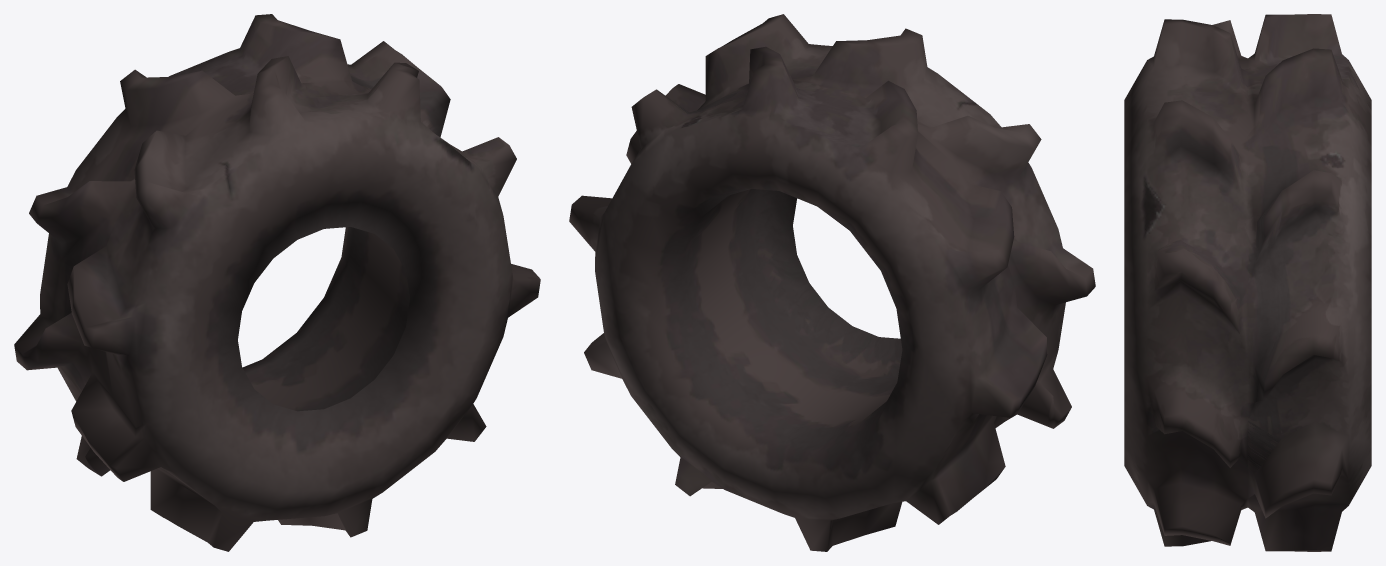
The model's file is Msh_Tire_Env.fbx.
The picture shows the model from 3 angles, left to right: view 1: azimuth 30°, elevation 25°; view 2: azimuth 150°, elevation 25°; view 3: azimuth 270°, elevation 25°; orthographic projection. The views are drawn at different scales.
Parts seen in each view (by area): view 1: Msh_Tire_Env; view 2: Msh_Tire_Env; view 3: Msh_Tire_Env.
Boxes of the visible parts, bbox=[...] form: Msh_Tire_Env: bbox=[14, 14, 540, 551]; Msh_Tire_Env: bbox=[569, 14, 1095, 551]; Msh_Tire_Env: bbox=[1124, 14, 1371, 551].
Size of the model in its own units: 203 by 203 by 93.54.
